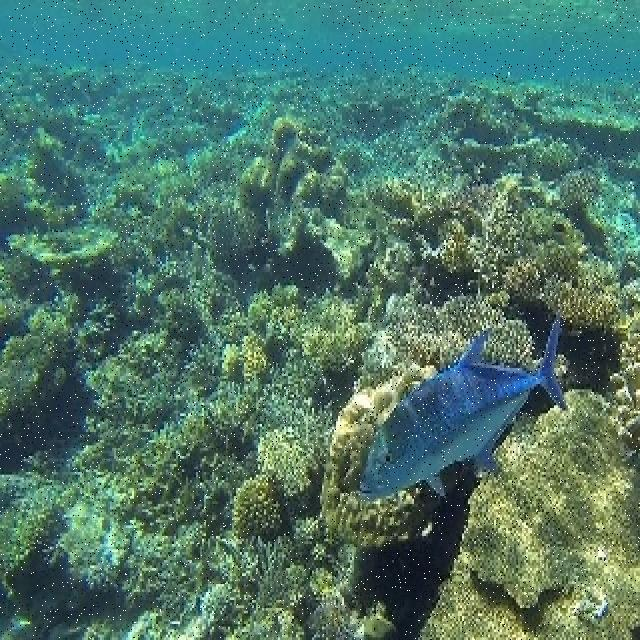fish: (358, 313, 570, 498)
